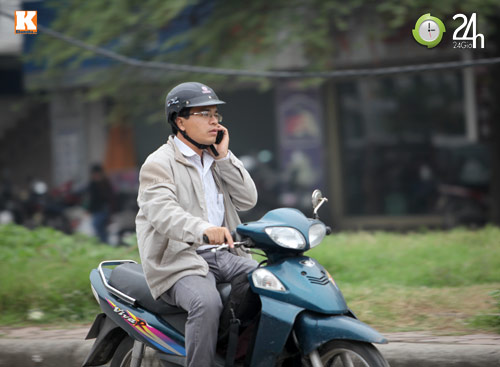dieu khien xe may: (137, 82, 349, 348)
su dung dien thoai: (165, 83, 229, 163)
